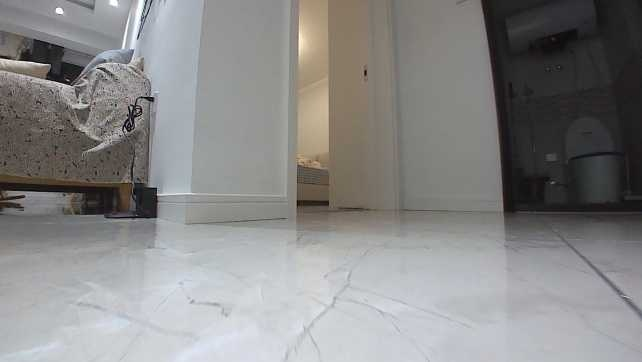charger: (104, 185, 155, 220)
sofa1: (0, 39, 151, 216)
toilet: (558, 113, 623, 199)
wire: (120, 95, 144, 198)
